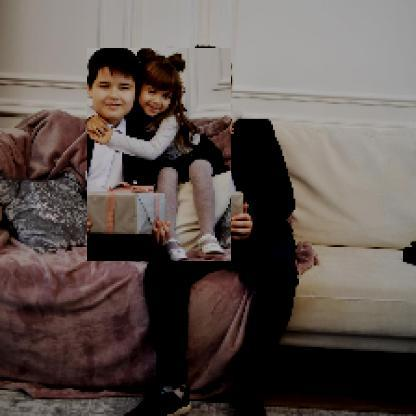child: (88, 49, 233, 263)
